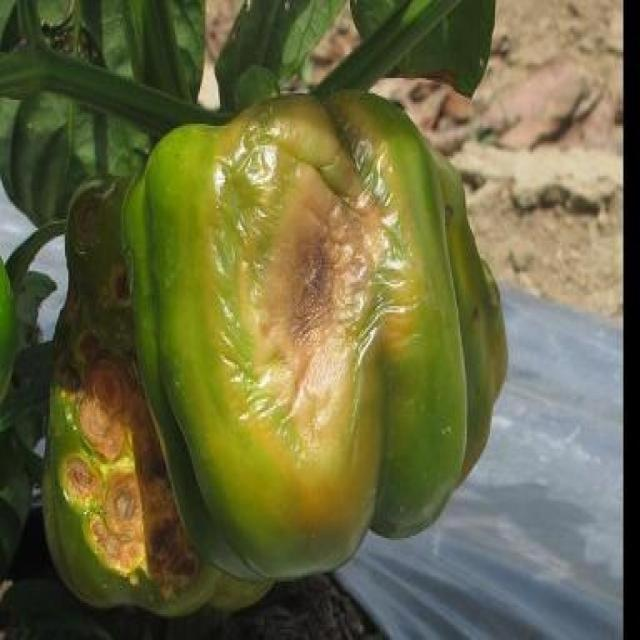Sunscald Fruit: (125, 56, 287, 334)
